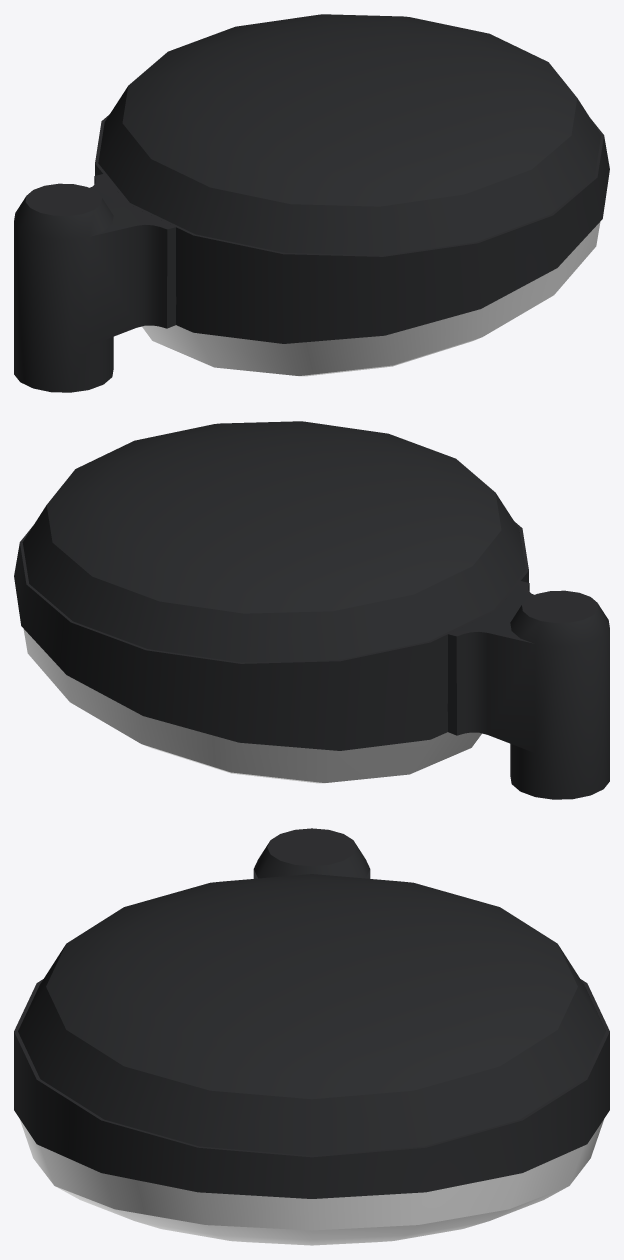
The picture shows the model from 3 angles, top to bottom: view 1: azimuth 30°, elevation 25°; view 2: azimuth 150°, elevation 25°; view 3: azimuth 270°, elevation 25°; orthographic projection. The views are drawn at different scales.
Parts seen in each view (by area): view 1: Glas oben, BezierCurve.001, Cylinder, Glas unten; view 2: Glas oben, BezierCurve.001, Cylinder, Glas unten; view 3: Glas oben, BezierCurve.001, Glas unten, Cylinder.
Boxes of the visible parts, x1,y1,x2,y2 form: Glas oben: (98,14,601,255); BezierCurve.001: (95,114,609,343); Cylinder: (14,174,176,392); Glas unten: (142,221,600,376); Glas oben: (22,421,525,662); BezierCurve.001: (14,521,528,750); Cylinder: (447,581,609,799); Glas unten: (23,628,481,783); Glas oben: (18,874,605,1155); BezierCurve.001: (14,979,609,1198); Glas unten: (20,1119,603,1245); Cylinder: (253,828,370,878).
Bounding box in the file's own units: 0.5765 × 0.233 × 0.4598.
Materials: 3 (2 with a texture image).
